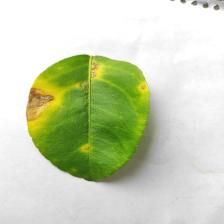canker: (19, 55, 158, 151)
